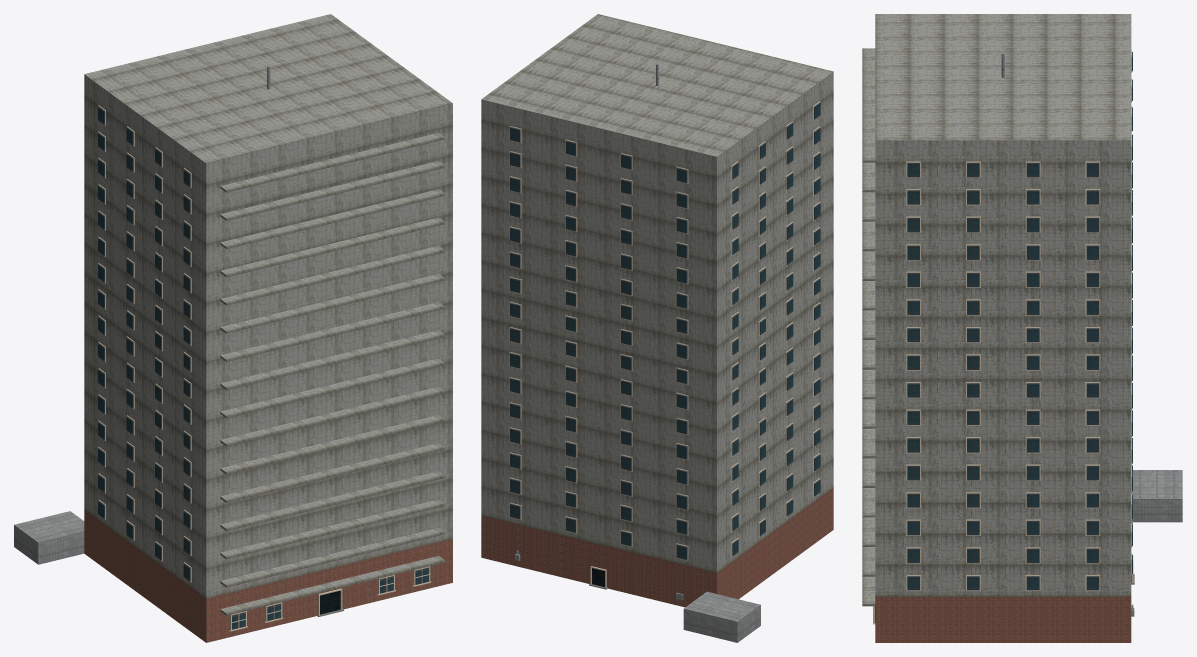
The model's file is apartment-tower_lod0.gltf.
3 views of the same model, side by side, from view 1: azimuth 30°, elevation 25°; view 2: azimuth 150°, elevation 25°; view 3: azimuth 270°, elevation 25° (orthographic). The views are drawn at different scales.
Visible parts, largest first — view 1: apartment-tower_upper, apartment-tower__balconies, apartment-tower_base, apartment-tower_fen_07-glass-curtain-blue_1, apartment-tower_fen_04-limestone_0, apartment-tower__playground; view 2: apartment-tower_upper, apartment-tower_fen_07-glass-curtain-blue_1, apartment-tower_base, apartment-tower_fen_04-limestone_0, apartment-tower__playground; view 3: apartment-tower_upper, apartment-tower_fen_07-glass-curtain-blue_1, apartment-tower_base, apartment-tower__balconies, apartment-tower_fen_04-limestone_0, apartment-tower__playground.
Boxes of the visible parts, left/top/right/bottom form: apartment-tower_upper: left=84, top=14, right=452, bottom=598; apartment-tower__balconies: left=220, top=133, right=444, bottom=615; apartment-tower_base: left=84, top=509, right=452, bottom=642; apartment-tower_fen_07-glass-curtain-blue_1: left=98, top=107, right=428, bottom=629; apartment-tower_fen_04-limestone_0: left=98, top=105, right=431, bottom=631; apartment-tower__playground: left=14, top=511, right=84, bottom=564; apartment-tower_upper: left=481, top=14, right=833, bottom=572; apartment-tower_fen_07-glass-curtain-blue_1: left=510, top=103, right=820, bottom=559; apartment-tower_base: left=481, top=488, right=833, bottom=607; apartment-tower_fen_04-limestone_0: left=509, top=101, right=820, bottom=587; apartment-tower__playground: left=683, top=591, right=760, bottom=642; apartment-tower_upper: left=875, top=14, right=1131, bottom=596; apartment-tower_fen_07-glass-curtain-blue_1: left=875, top=52, right=1132, bottom=622; apartment-tower_base: left=875, top=596, right=1131, bottom=642; apartment-tower__balconies: left=862, top=48, right=875, bottom=606; apartment-tower_fen_04-limestone_0: left=873, top=50, right=1133, bottom=624; apartment-tower__playground: left=1131, top=470, right=1182, bottom=522.
Bounding box in the file's own units: 41.7 × 68.02 × 37.5.
